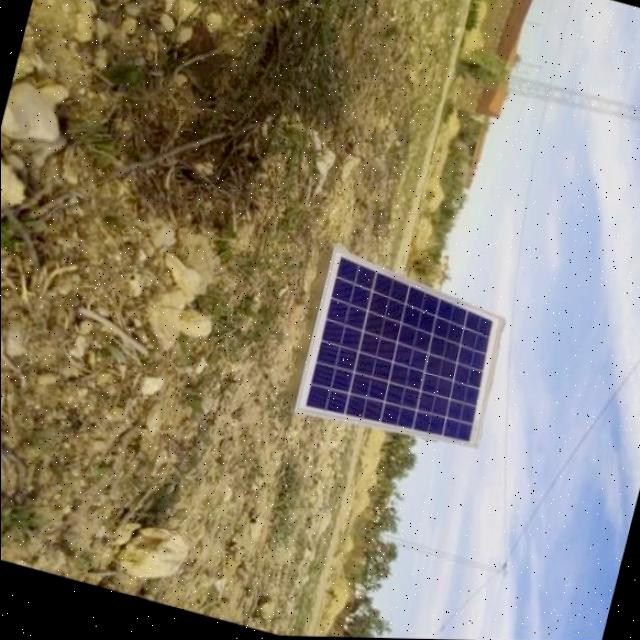Normal Solar Panel: (293, 248, 515, 460)
